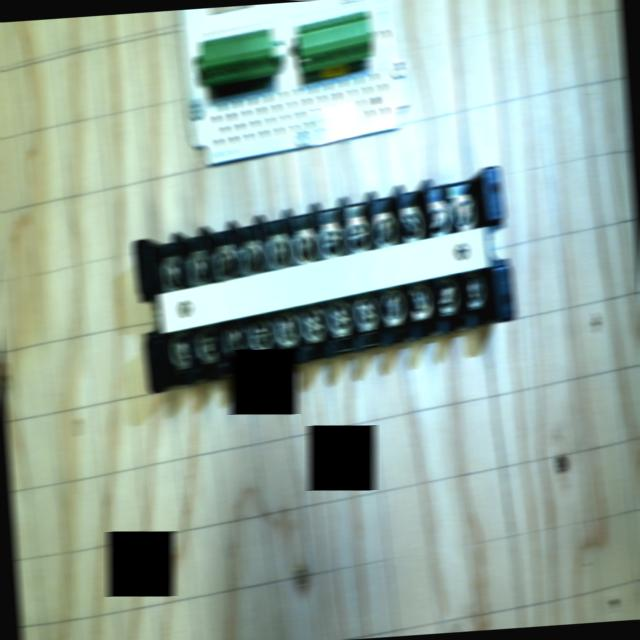Flathead_Block: (118, 167, 528, 391)
Terminal_1: (289, 10, 377, 73), (195, 28, 278, 84)
